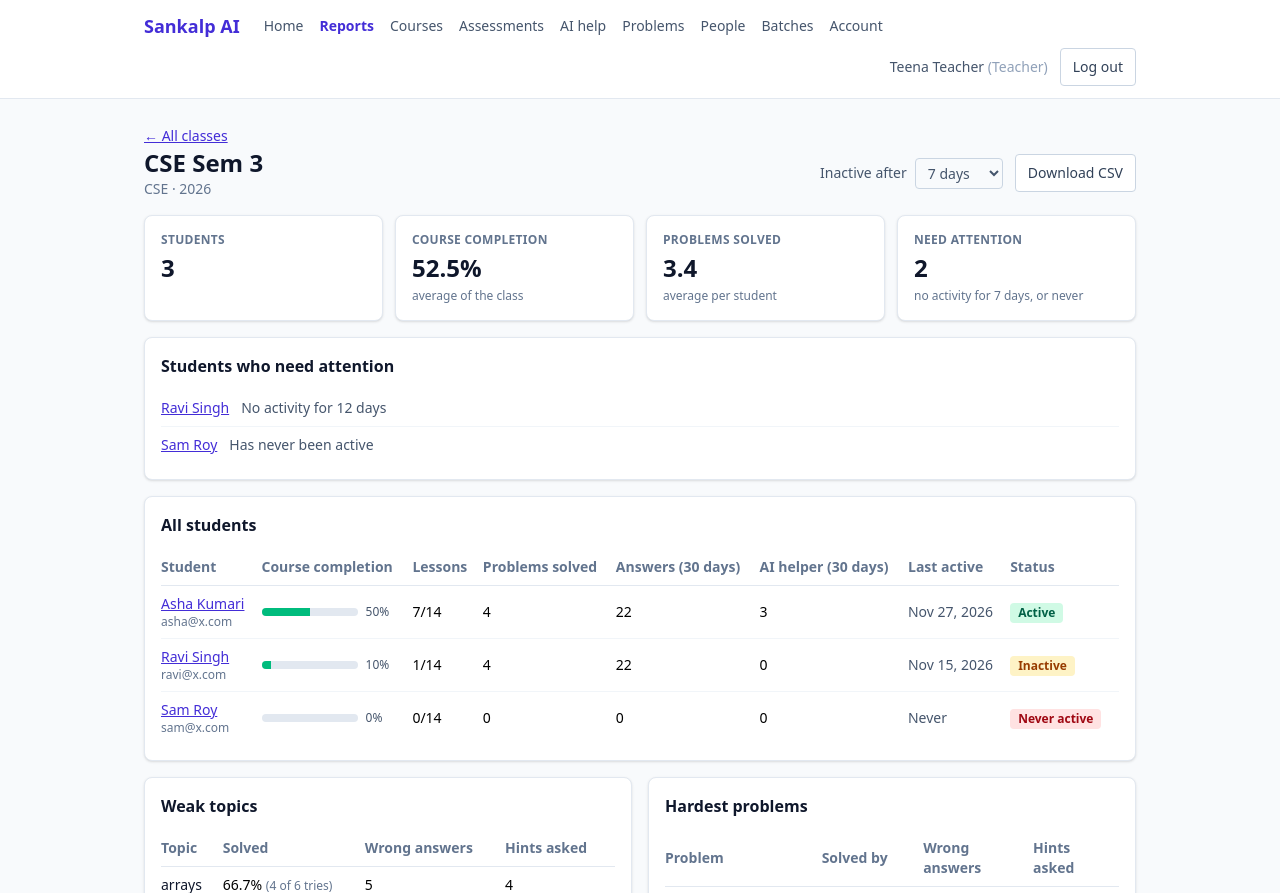
class report › shows an error if the download fails
Click the button "Download CSV" at (1075, 173), box [1015, 154, 1136, 192]
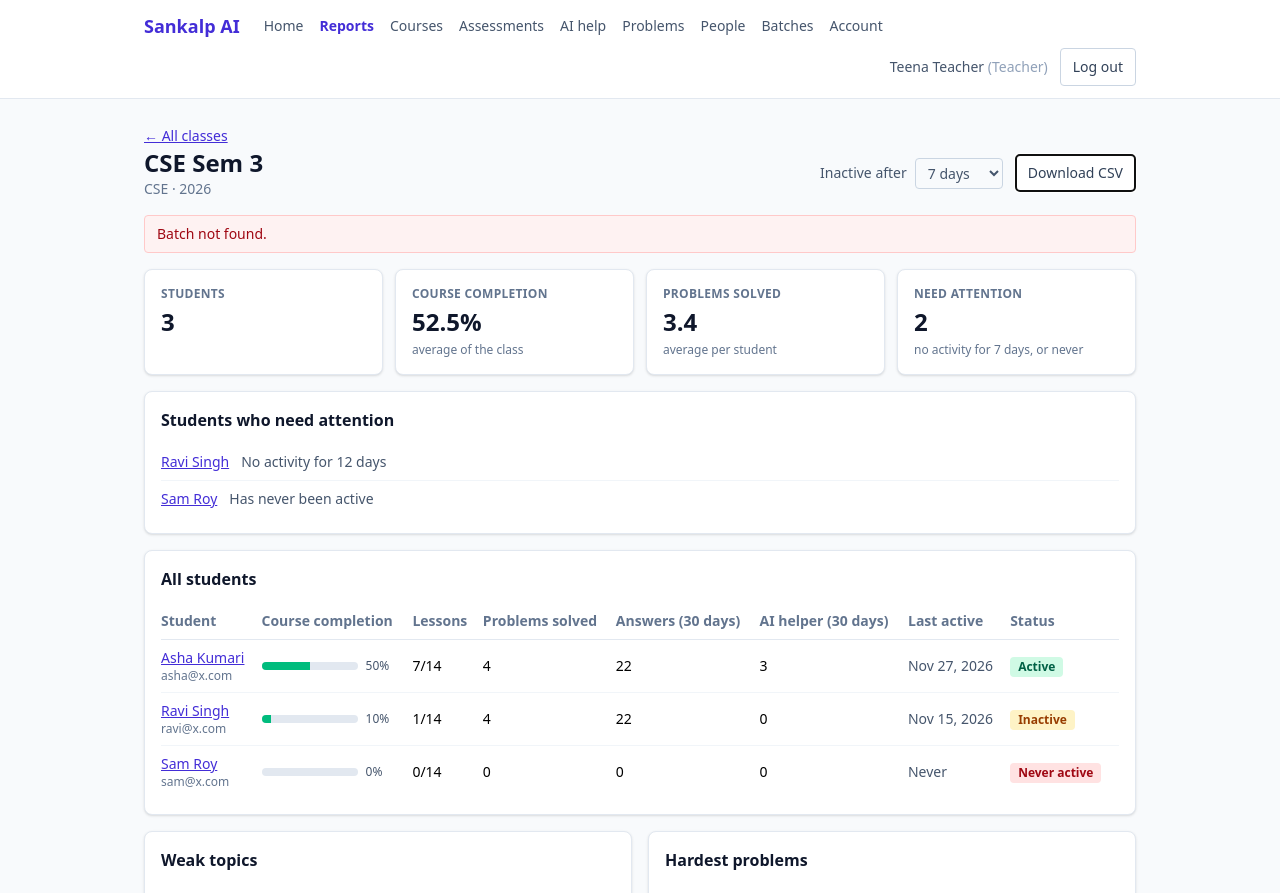
Result: the message reads "Batch not found." at [157, 224, 267, 243]
